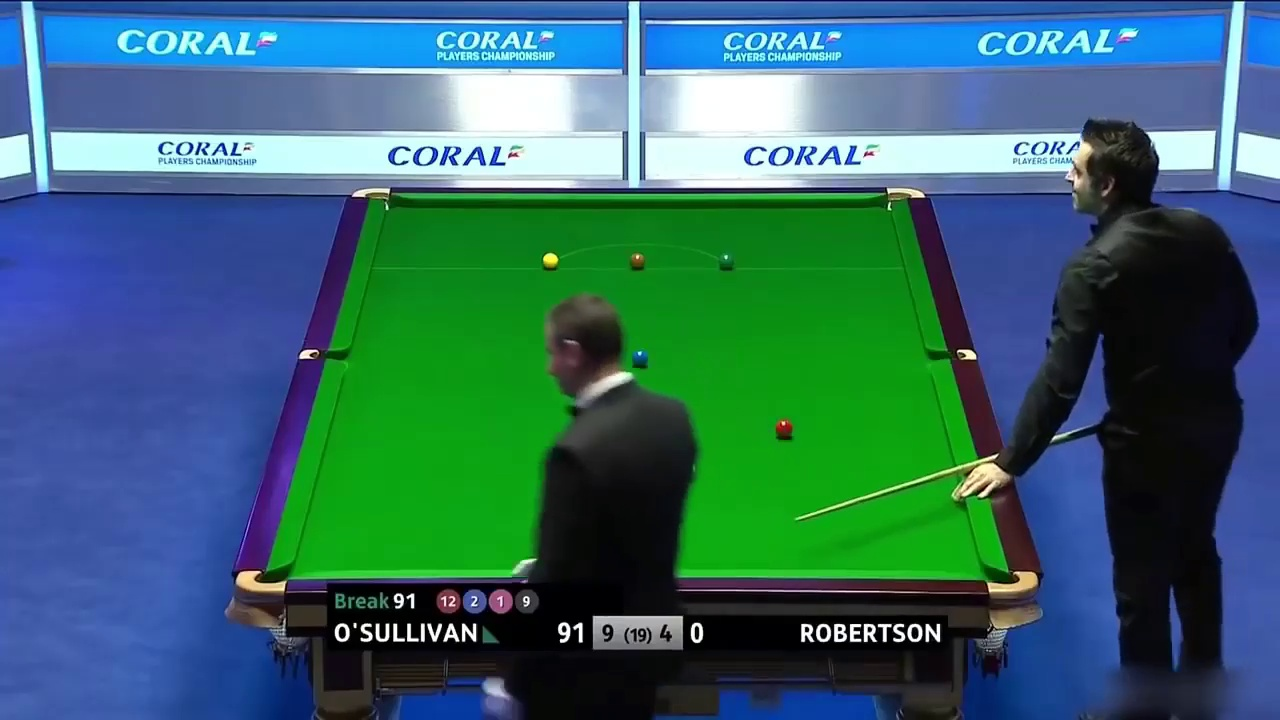ball: (774, 416, 796, 439), (627, 252, 646, 269), (715, 254, 734, 270), (541, 252, 559, 268)
